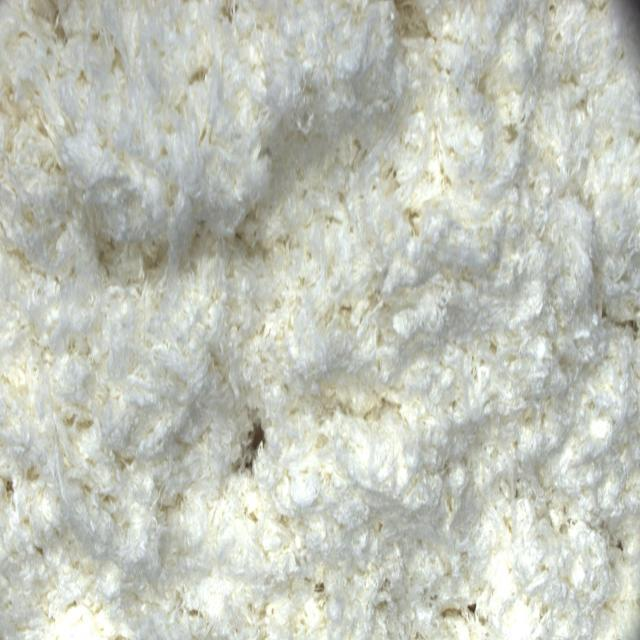dust: (236, 414, 263, 478)
